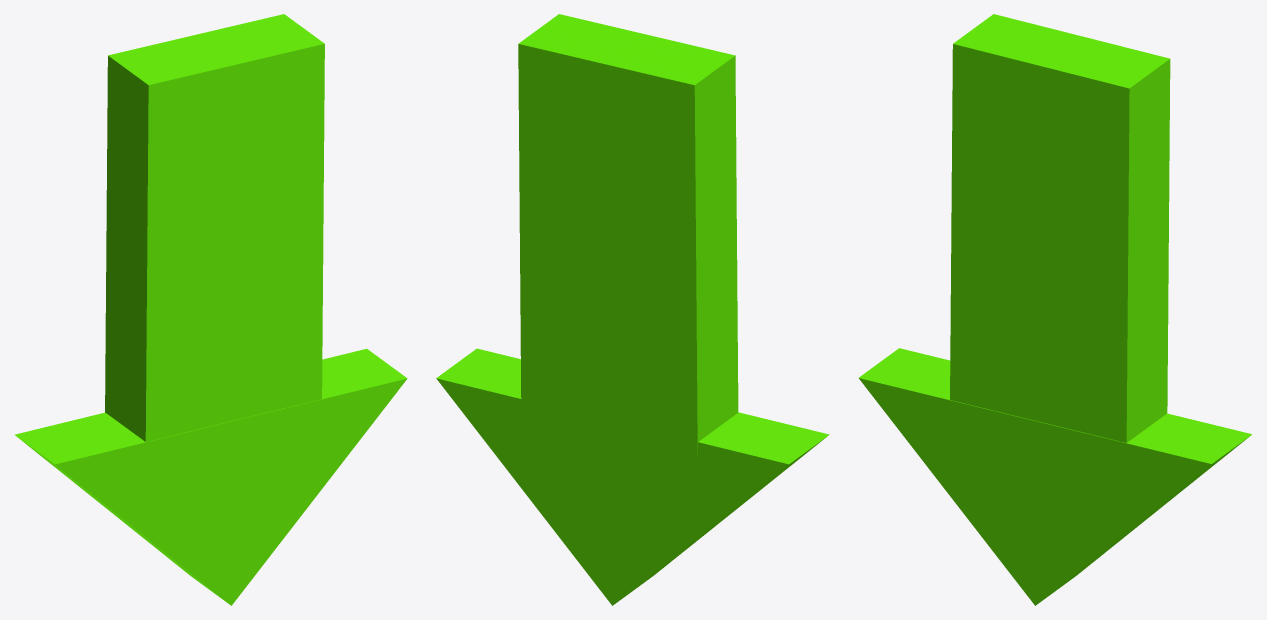
The model's file is straight_arrow.fbx.
3 renders of one model, left to right at view 1: azimuth 30°, elevation 25°; view 2: azimuth 150°, elevation 25°; view 3: azimuth 330°, elevation 25°, orthographic.
Parts seen in each view (by area): view 1: Box, Box1; view 2: Box, Box1; view 3: Box, Box1.
Boxes of the visible parts, <box> form: Box: <box>105,14,324,441</box>; Box1: <box>14,348,407,605</box>; Box: <box>518,14,738,455</box>; Box1: <box>436,348,829,605</box>; Box: <box>950,14,1170,442</box>; Box1: <box>859,348,1251,605</box>.
Size of the model in its own units: 100 by 147 by 20.16.
